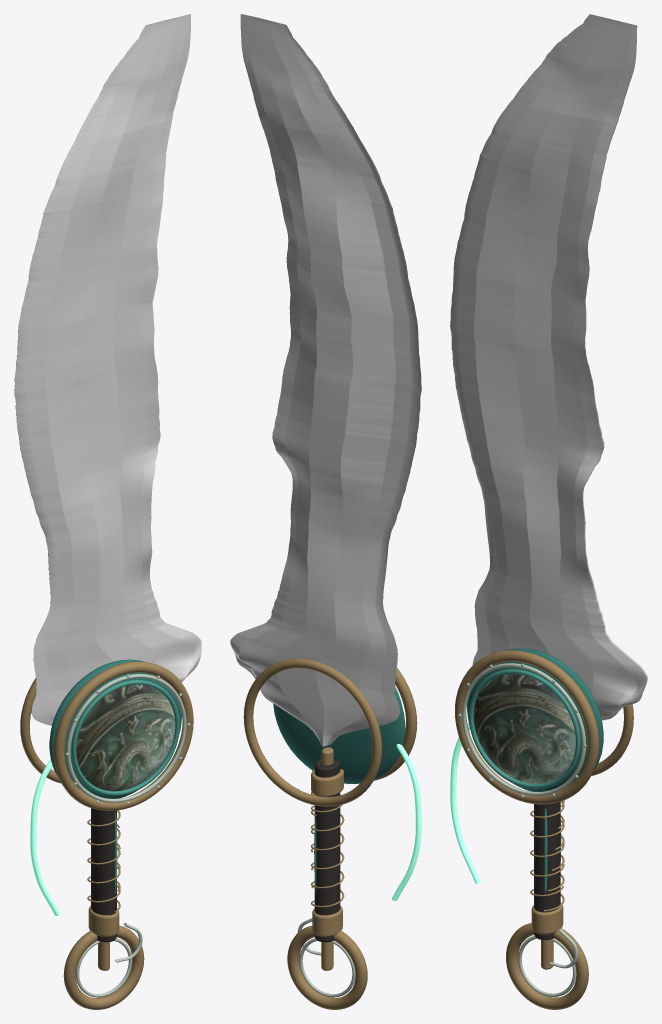
The model's file is YueyaoPlayer.fbx.
3 renders of one model, left to right at view 1: azimuth 30°, elevation 25°; view 2: azimuth 150°, elevation 25°; view 3: azimuth 330°, elevation 25°, orthographic. The views are drawn at different scales.
Parts seen in each view (by area): view 1: SM_Yueyao_Player; view 2: SM_Yueyao_Player; view 3: SM_Yueyao_Player.
Part boxes in pixels (box(x1,y1,x2,y2)): SM_Yueyao_Player: box(14, 14, 201, 1009); SM_Yueyao_Player: box(230, 14, 421, 1009); SM_Yueyao_Player: box(450, 14, 647, 1009).
Bounding box in the file's own units: 14.94 × 5.93 × 73.64.
Materials: 9 (1 with a texture image).
